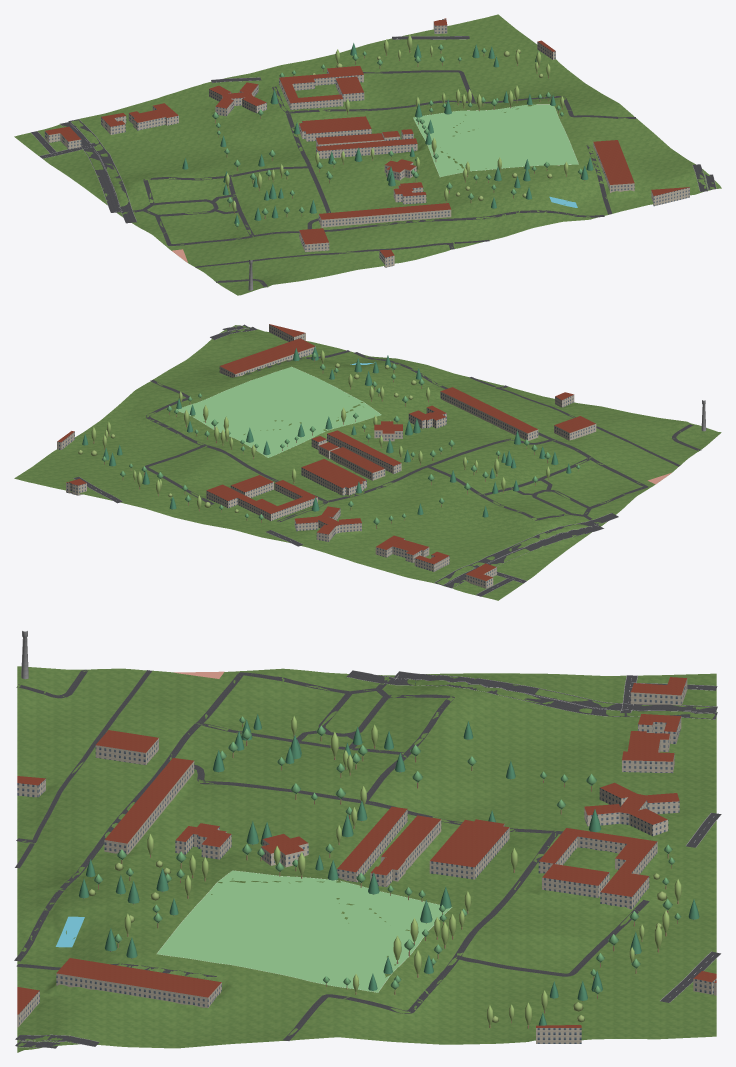
File: Tile_X0_Y0.glb
The picture shows the model from 3 angles, top to bottom: view 1: azimuth 30°, elevation 25°; view 2: azimuth 150°, elevation 25°; view 3: azimuth 270°, elevation 25°; orthographic projection. The views are drawn at different scales.
Parts seen in each view (by area): view 1: Terrain_Mesh, Buildings_Roofs, Pitch_Grass, Roads, Buildings_Walls, Tree_Leaves_Conifer, Tree_Leaves_Poplar, Tree_Leaves, Kerbs; view 2: Terrain_Mesh, Pitch_Grass, Buildings_Roofs, Buildings_Walls, Roads, Tree_Leaves_Conifer, Tree_Leaves_Poplar, Tree_Leaves, Kerbs; view 3: Terrain_Mesh, Pitch_Grass, Buildings_Roofs, Roads, Buildings_Walls, Tree_Leaves_Conifer, Tree_Leaves_Poplar, Tree_Leaves, Kerbs, Tree_Trunk.
Boxes of the visible parts, box(x1,y1,x2,y2) form: Terrain_Mesh: box(14, 14, 721, 295); Buildings_Roofs: box(45, 18, 689, 257); Pitch_Grass: box(413, 104, 578, 177); Roads: box(31, 36, 716, 287); Buildings_Walls: box(44, 19, 689, 267); Tree_Leaves_Conifer: box(182, 43, 593, 224); Tree_Leaves_Poplar: box(225, 34, 568, 211); Tree_Leaves: box(212, 44, 582, 226); Kerbs: box(31, 36, 716, 222); Terrain_Mesh: box(14, 325, 721, 600); Pitch_Grass: box(177, 367, 381, 457); Buildings_Roofs: box(57, 324, 595, 580); Buildings_Walls: box(57, 324, 596, 588); Roads: box(73, 324, 701, 596); Tree_Leaves_Conifer: box(82, 346, 571, 517); Tree_Leaves_Poplar: box(91, 350, 550, 508); Tree_Leaves: box(101, 352, 580, 524); Kerbs: box(73, 324, 618, 594); Terrain_Mesh: box(17, 666, 716, 1052); Pitch_Grass: box(157, 870, 451, 992); Buildings_Roofs: box(17, 677, 716, 1027); Roads: box(14, 669, 720, 1048); Buildings_Walls: box(17, 678, 716, 1043); Tree_Leaves_Conifer: box(79, 714, 699, 1025); Tree_Leaves_Poplar: box(124, 716, 681, 1024); Tree_Leaves: box(93, 716, 681, 994); Kerbs: box(15, 670, 721, 1048); Tree_Trunk: box(83, 723, 694, 1028).
Bounding box in the file's own units: 508 × 42.25 × 405.
17 materials, 6 textured.
